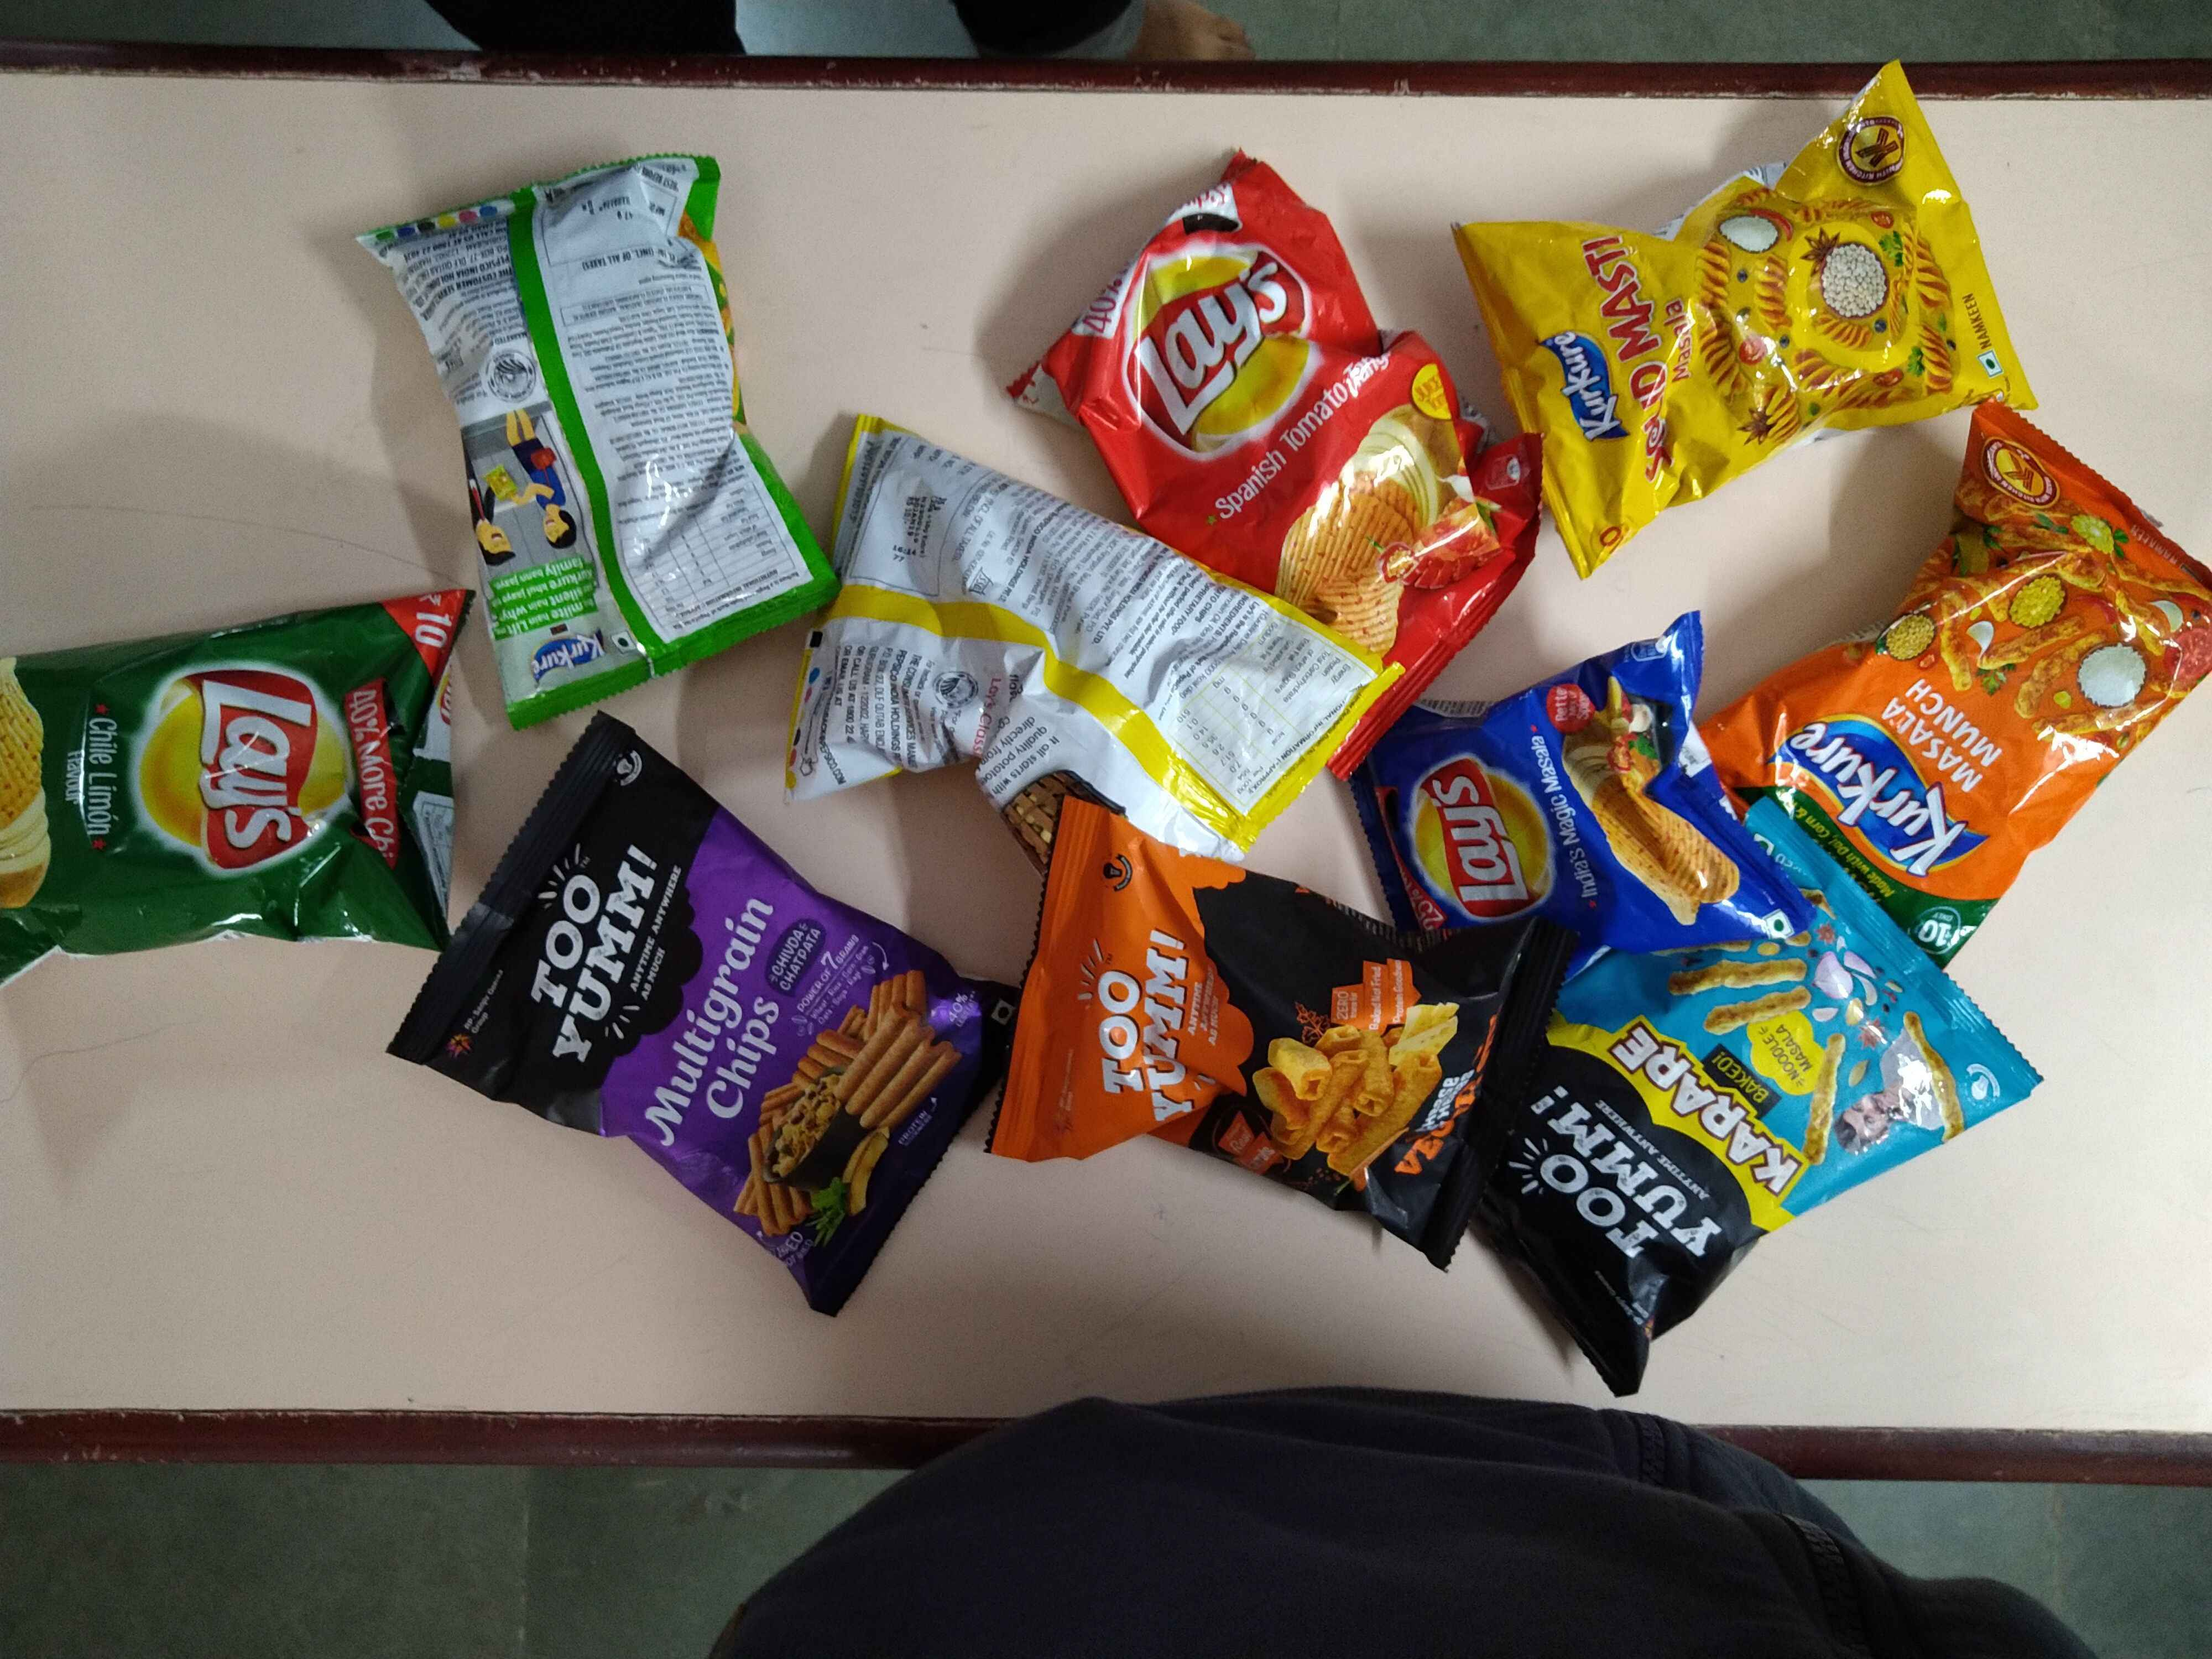Lays: (1123, 246, 1310, 483), (146, 664, 357, 868), (1392, 742, 1561, 925)
kurkure: (1775, 704, 1998, 890), (1538, 322, 1639, 467), (528, 633, 606, 680)
tooyumm: (1515, 1079, 1731, 1284), (512, 831, 674, 1060), (1101, 904, 1214, 1145)
